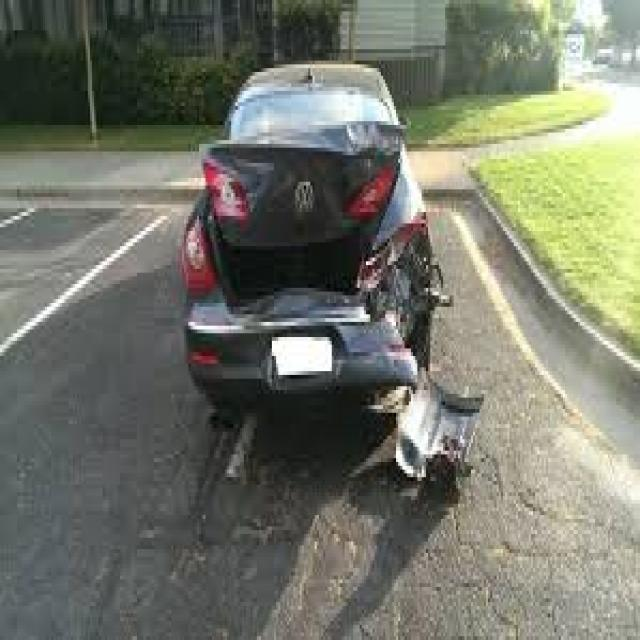minor: (214, 129, 386, 266)
moderate: (364, 229, 439, 384)
